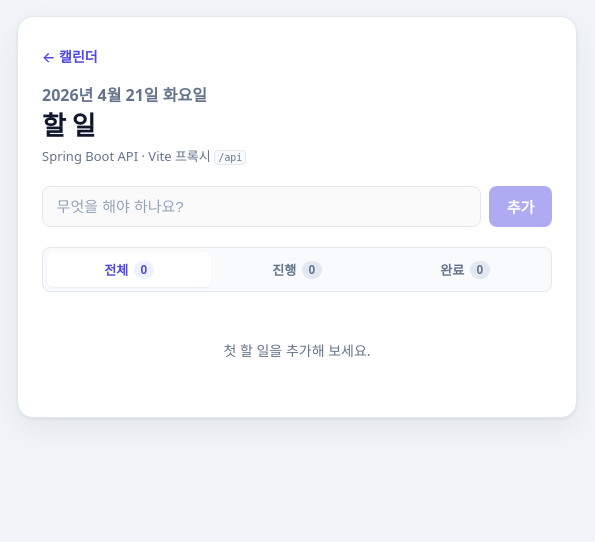
it: TodoDayPage › creates a todo after 추가 then 등록, and shows title and time in list
Step 1. Type "new" into the field named "새 할 일" → x=262, y=206, box [42,186,481,227]
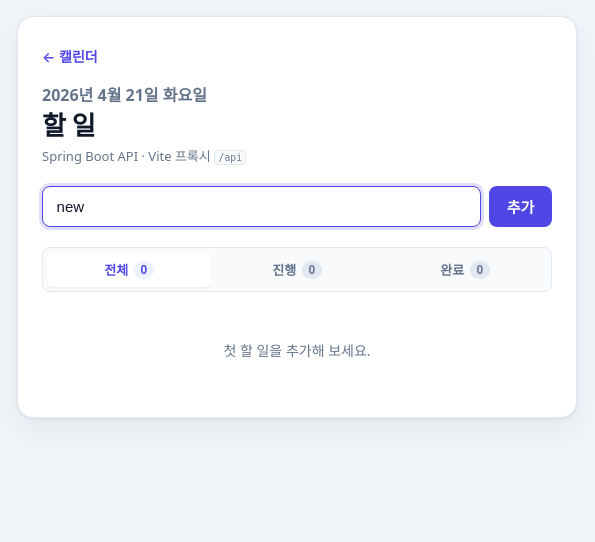
Step 2. Click the button "추가" → x=521, y=206, box [489,186,552,227]
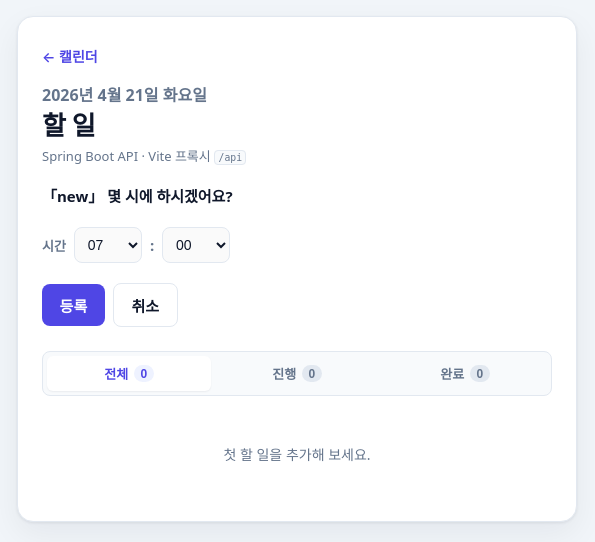
Check: the text "「new」 몇 시에 하시겠어요?" is shown, box [42,186,232,206]
Check: the dropdown named "일정 시" is shown, box [74,227,142,263]
Step 3. Click the button "등록" → x=73, y=305, box [42,284,105,326]
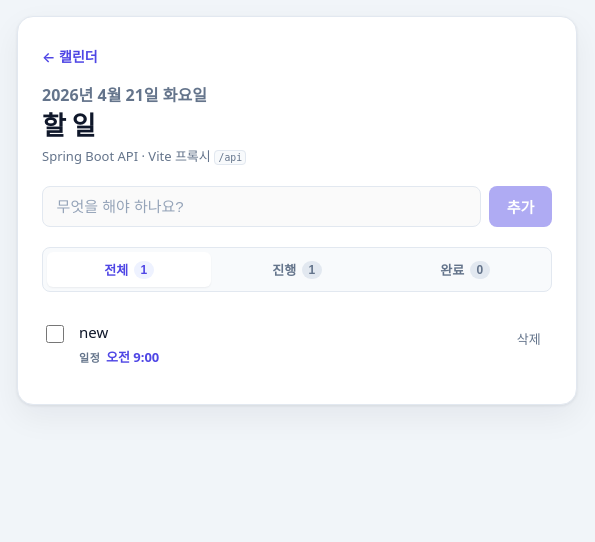
Check: the text "new" is shown, box [79,322,108,342]
Check: the element named "일정 시각 " is shown, box [79,348,159,366]
